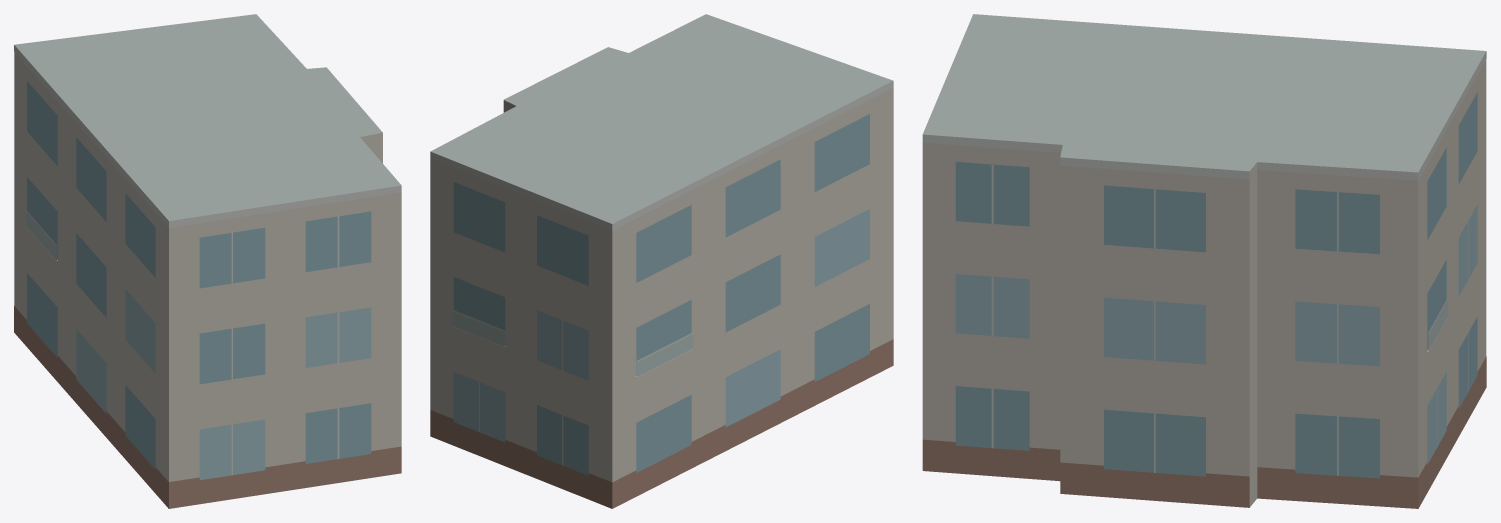
File: survey-upis-32694329.glb
3 views of the same model, side by side, from view 1: azimuth 30°, elevation 25°; view 2: azimuth 150°, elevation 25°; view 3: azimuth 270°, elevation 25° (orthographic). The views are drawn at different scales.
Parts seen in each view (by area): view 1: survey-upis-32694329.tmp; view 2: survey-upis-32694329.tmp; view 3: survey-upis-32694329.tmp.
Boxes of the visible parts, x1,y1,x2,y2 form: survey-upis-32694329.tmp: [14, 14, 401, 508]; survey-upis-32694329.tmp: [430, 14, 893, 508]; survey-upis-32694329.tmp: [922, 14, 1486, 508].
Bounding box in the file's own units: 10.31 × 10.2 × 15.51.
